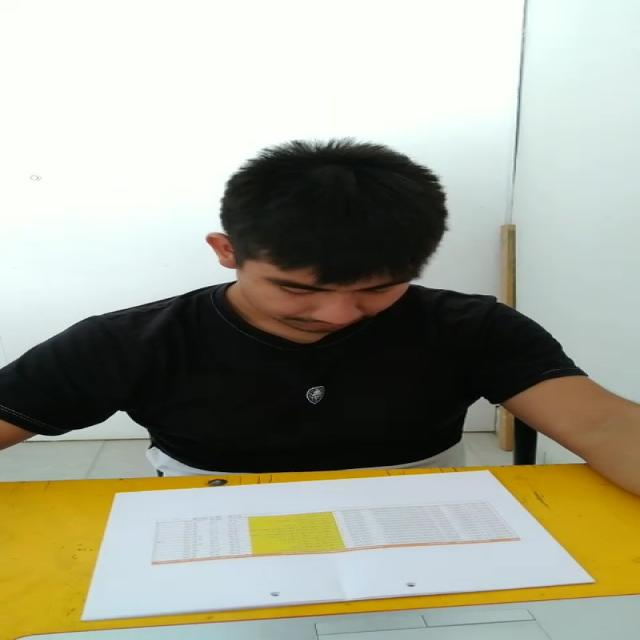9_cabeza_baja: (204, 135, 450, 334)
